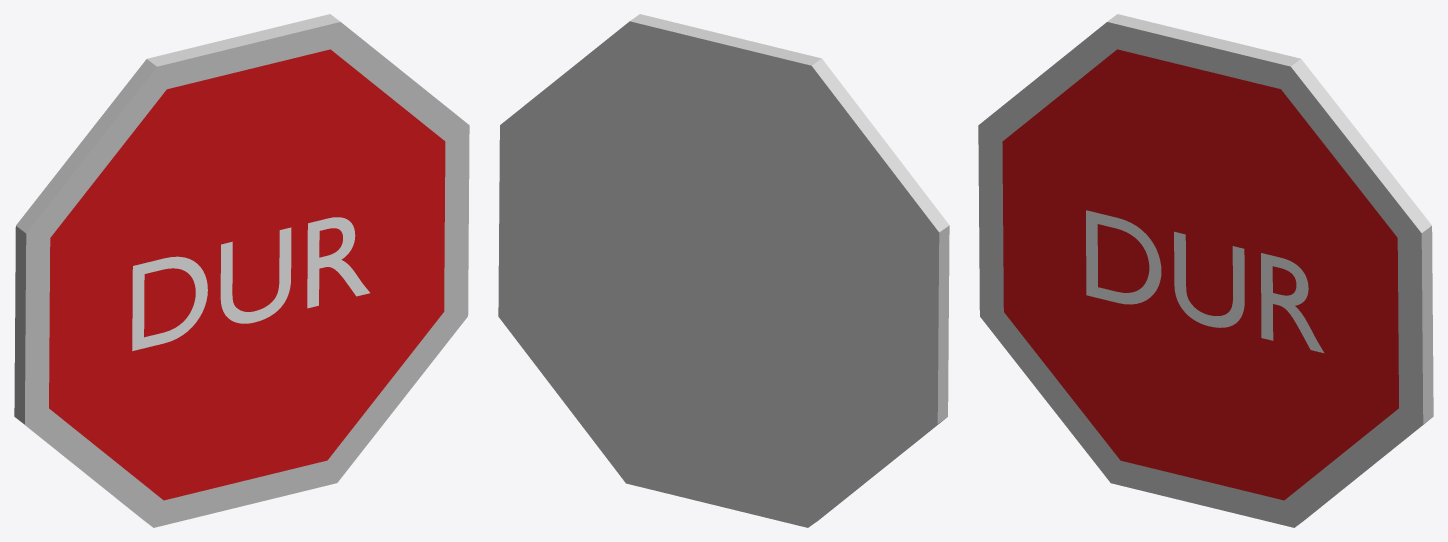
File: dur levhası 2.fbx
3 views of the same model, side by side, from view 1: azimuth 30°, elevation 25°; view 2: azimuth 150°, elevation 25°; view 3: azimuth 330°, elevation 25° (orthographic).
Parts seen in each view (by area): view 1: Circle, Text; view 2: Circle; view 3: Circle, Text.
Boxes of the visible parts, bbox=[...] form: Circle: bbox=[14, 14, 469, 527]; Text: bbox=[132, 217, 369, 350]; Circle: bbox=[498, 14, 949, 527]; Circle: bbox=[978, 14, 1433, 527]; Text: bbox=[1086, 210, 1324, 353].
Size of the model in its own units: 370 by 370 by 20.16.
